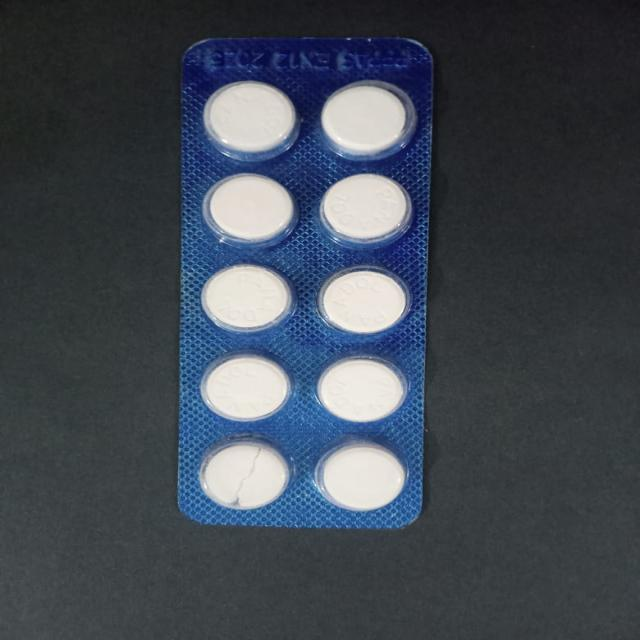defect: (197, 436, 293, 513)
